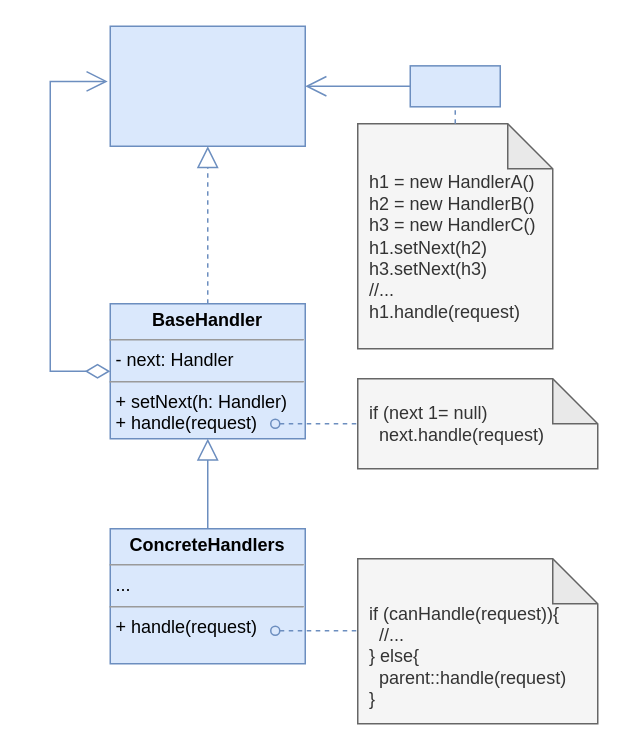
Some shapes in this 624 by 750 pixel diagram are drawn without their labels. Each missing label, with the centre of its shape:
<<Interface>> Handler + setNext(h: Handler) + handle(request): point 207,85
Client: point 454,85
